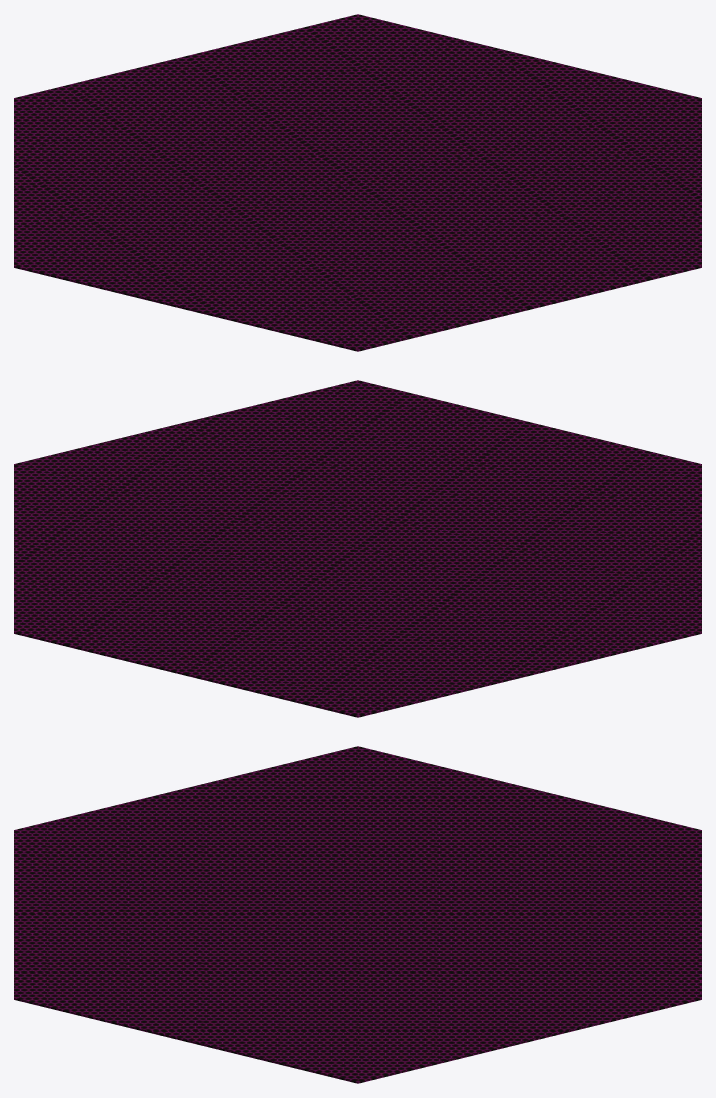
Rendered from SS_Floor.obj.
The picture shows the model from 3 angles, top to bottom: view 1: azimuth 30°, elevation 25°; view 2: azimuth 150°, elevation 25°; view 3: azimuth 270°, elevation 25°; orthographic projection.
Parts seen in each view (by area): view 1: Mesh1 Group1 Model; view 2: Mesh1 Group1 Model; view 3: Mesh1 Group1 Model.
Boxes of the visible parts, x1,y1,x2,y2 form: Mesh1 Group1 Model: [14, 14, 701, 351]; Mesh1 Group1 Model: [14, 380, 701, 717]; Mesh1 Group1 Model: [14, 746, 701, 1083].
Bounding box in the file's own units: 40.24 × 0.1016 × 34.85.
1 material, 1 textured.
